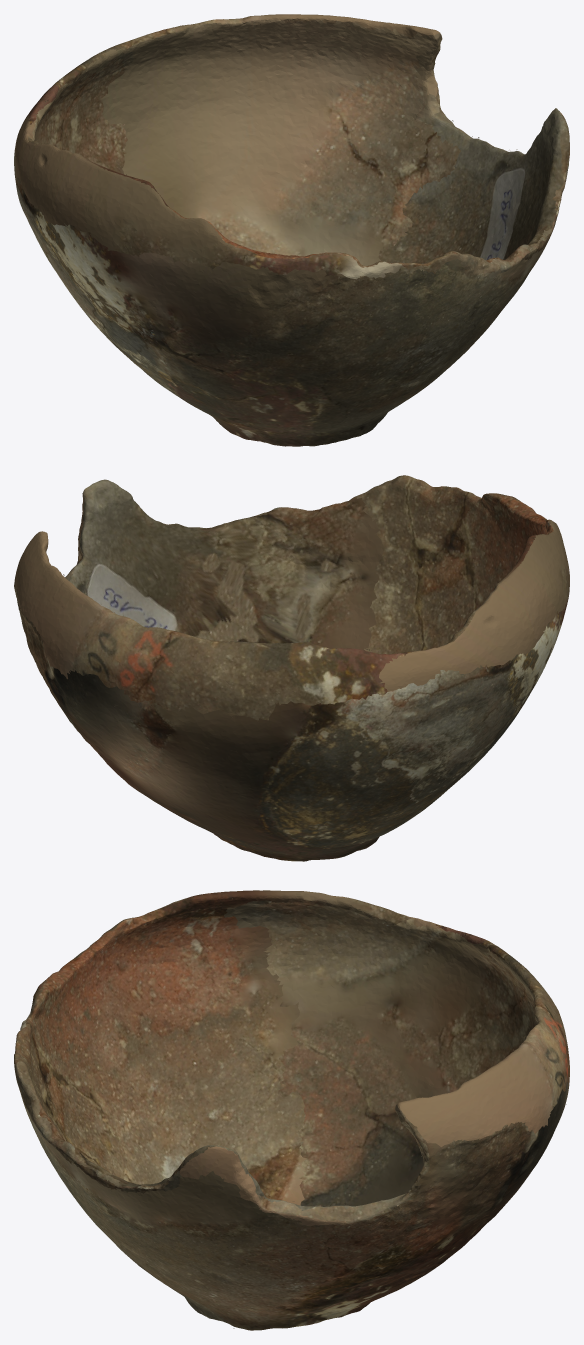
The picture shows the model from 3 angles, top to bottom: view 1: azimuth 30°, elevation 25°; view 2: azimuth 150°, elevation 25°; view 3: azimuth 270°, elevation 25°; orthographic projection.
Size of the model in its own units: 0.3641 by 0.2288 by 0.3634.
